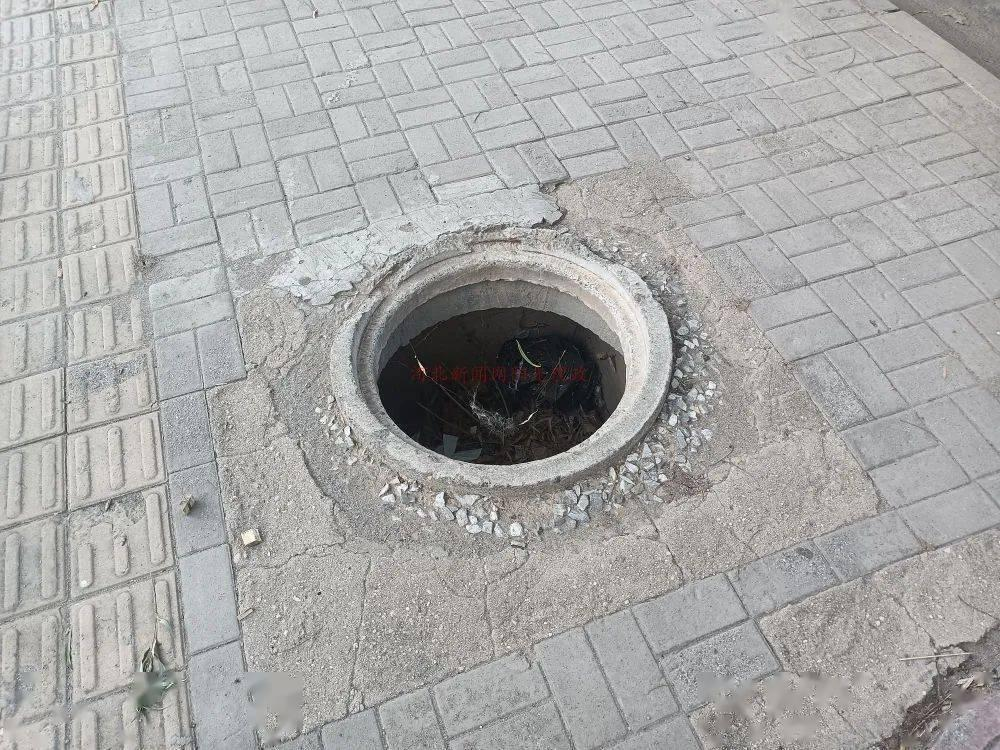wellcover: (323, 226, 674, 483)
